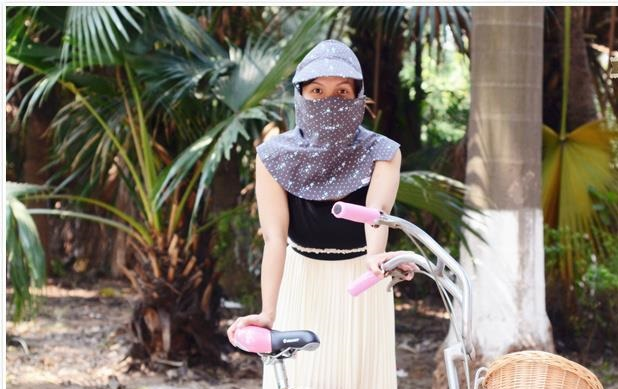face_mask: (300, 65, 358, 134)
